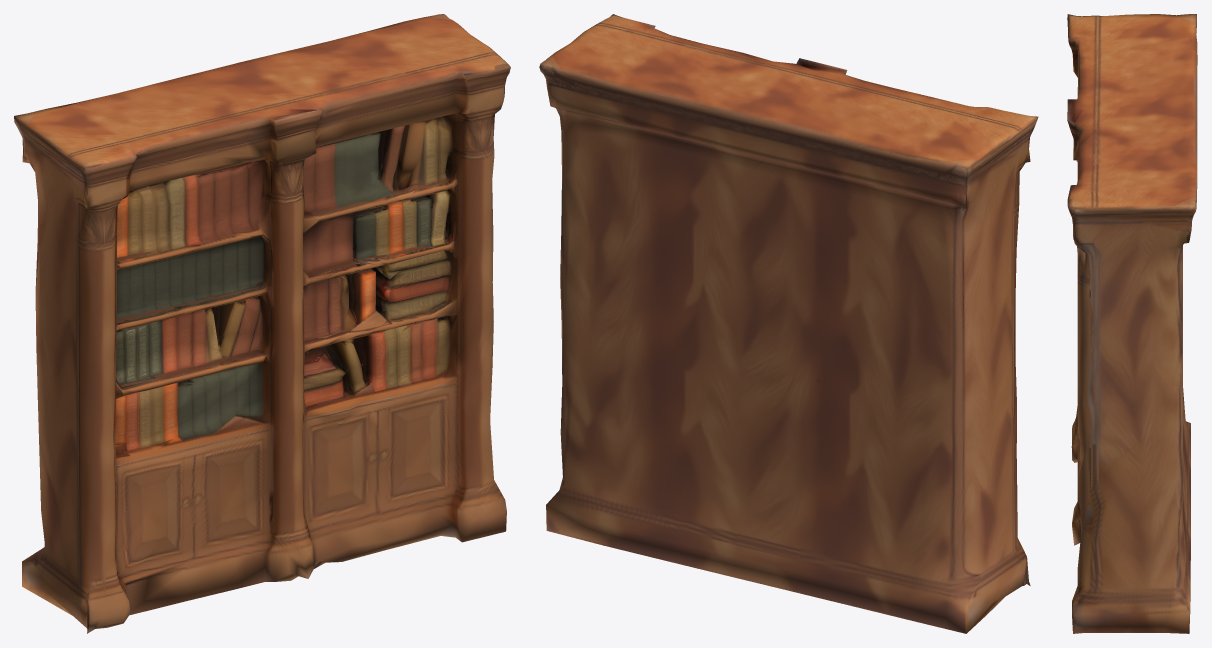
Rendered from Bookshelf 1.glb.
The picture shows the model from 3 angles, left to right: view 1: azimuth 30°, elevation 25°; view 2: azimuth 150°, elevation 25°; view 3: azimuth 270°, elevation 25°; orthographic projection. The views are drawn at different scales.
Size of the model in its own units: 1.83 by 1.91 by 0.5237.
1 material, 1 textured.
